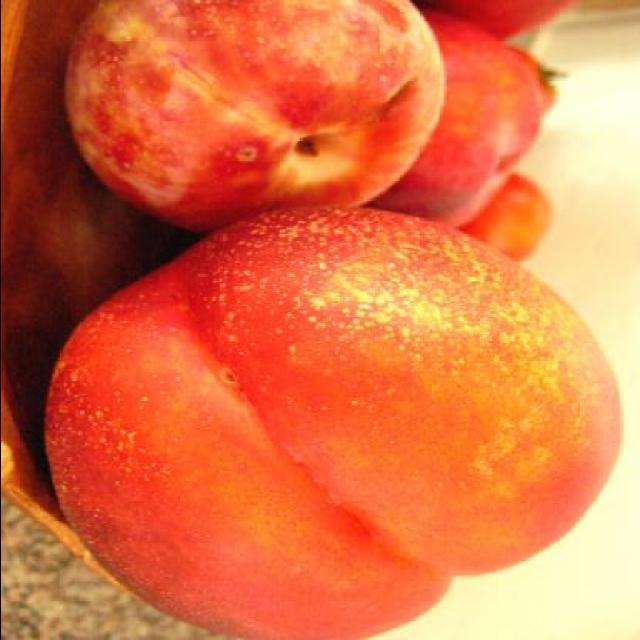Peach: (40, 0, 622, 640)
